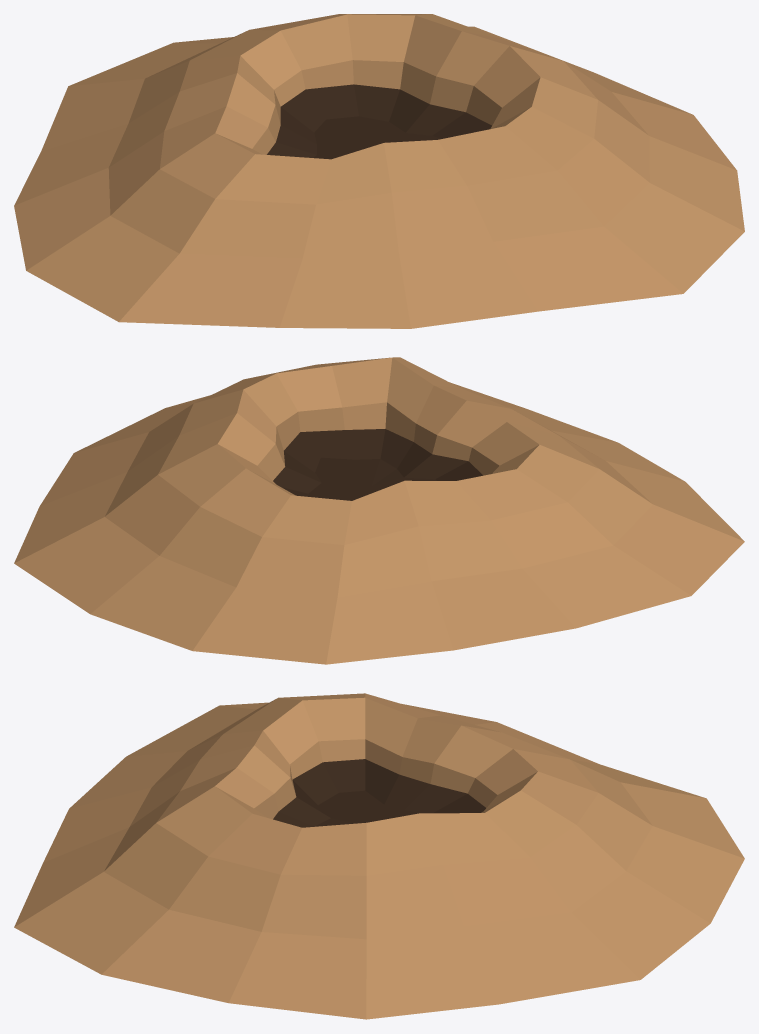
The model's file is Hoyo.fbx.
3 renders of one model, top to bottom at view 1: azimuth 30°, elevation 25°; view 2: azimuth 150°, elevation 25°; view 3: azimuth 270°, elevation 25°, orthographic. The views are drawn at different scales.
Parts seen in each view (by area): view 1: HoyoTierra; view 2: HoyoTierra; view 3: HoyoTierra.
Boxes of the visible parts, left/top/right/bottom form: HoyoTierra: left=14, top=14, right=744, bottom=328; HoyoTierra: left=14, top=357, right=744, bottom=664; HoyoTierra: left=14, top=693, right=744, bottom=1019.
Bounding box in the file's own units: 5.02 × 0.8169 × 4.92.
